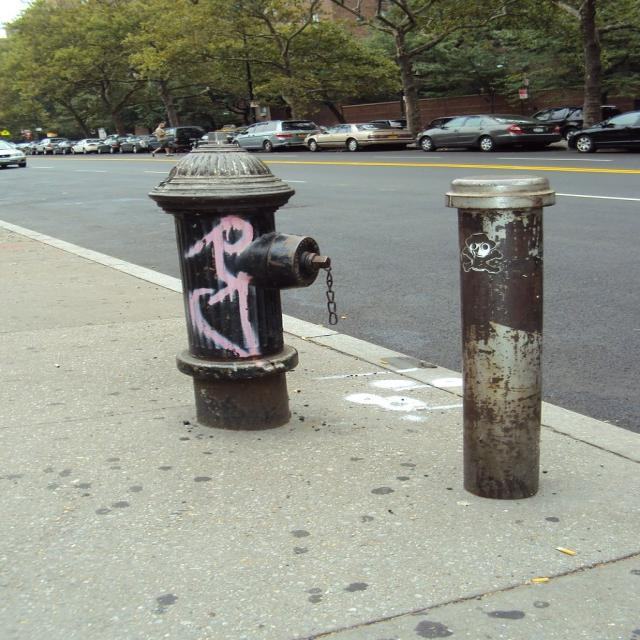fire_hydrant: (173, 108, 382, 461)
